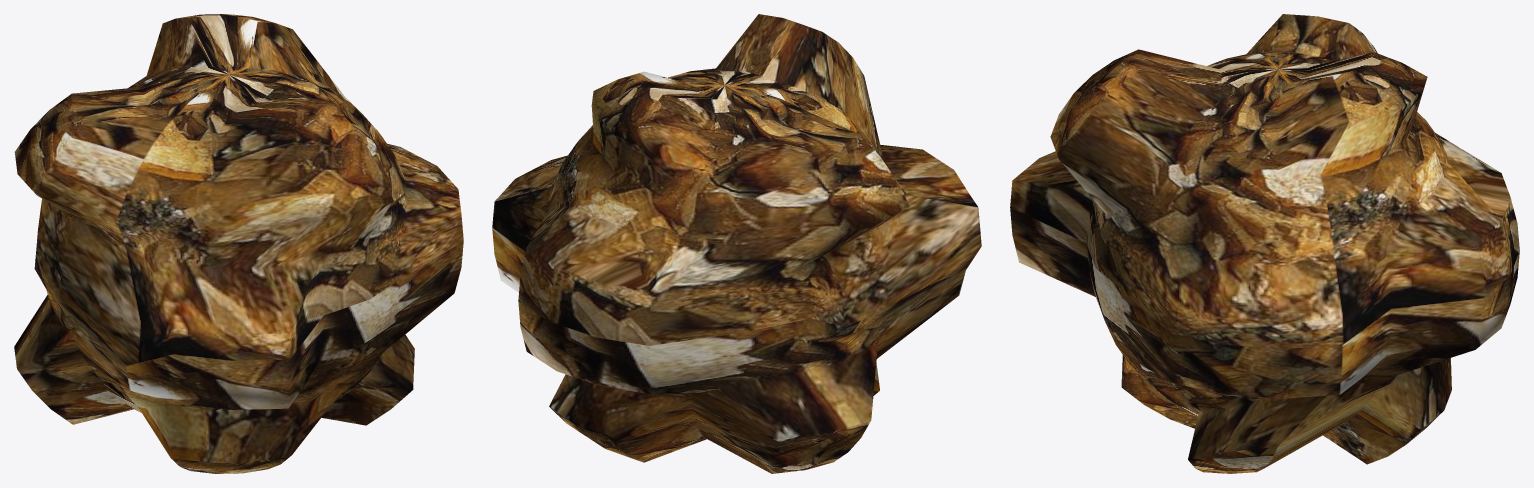
Rendered from siderita.fbx.
3 views of the same model, side by side, from view 1: azimuth 30°, elevation 25°; view 2: azimuth 150°, elevation 25°; view 3: azimuth 270°, elevation 25° (orthographic). The views are drawn at different scales.
Parts seen in each view (by area): view 1: pSphere1; view 2: pSphere1; view 3: pSphere1.
Boxes of the visible parts, box(x1,y1,x2,y2) form: pSphere1: box(14, 14, 463, 473); pSphere1: box(492, 14, 981, 473); pSphere1: box(1010, 14, 1519, 473).
Size of the model in its own units: 11.77 by 10.66 by 12.68.
1 material, 1 textured.
